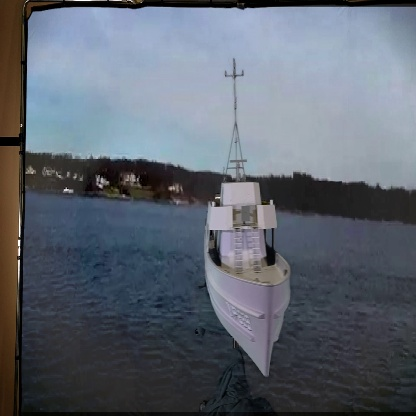YP689: (206, 65, 292, 374)
